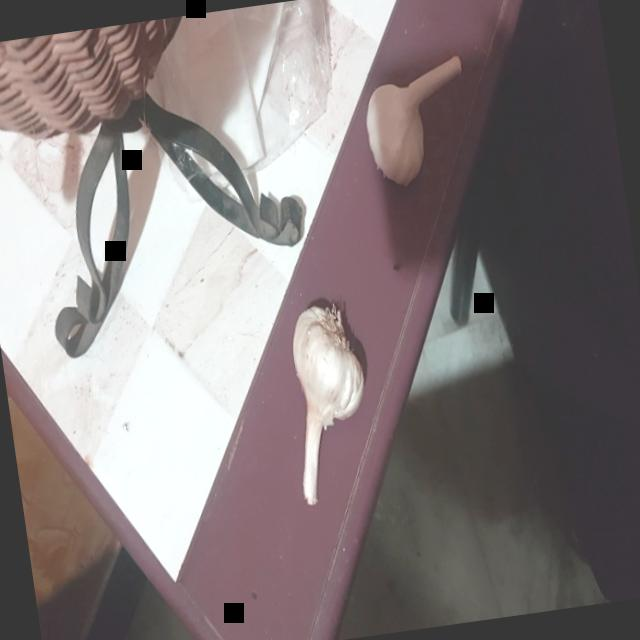garlic: (240, 287, 393, 523), (344, 41, 488, 194)
